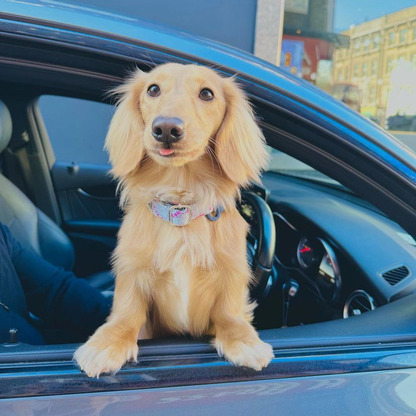dachshund: (75, 58, 295, 378)
